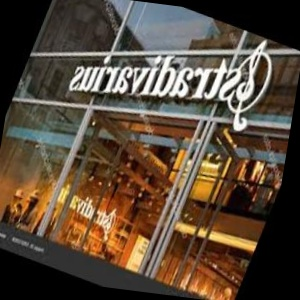stradivarius: (24, 94, 291, 152)
